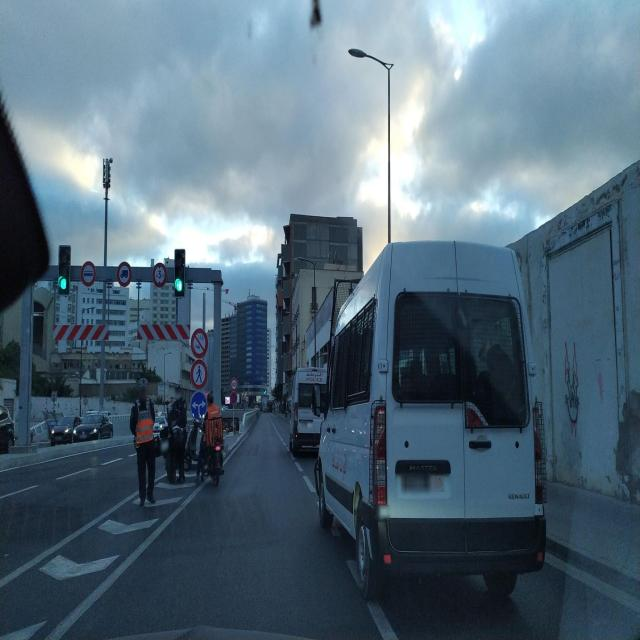car: (314, 238, 546, 603), (288, 366, 327, 456), (75, 410, 114, 441), (49, 415, 81, 445), (0, 403, 15, 457)
